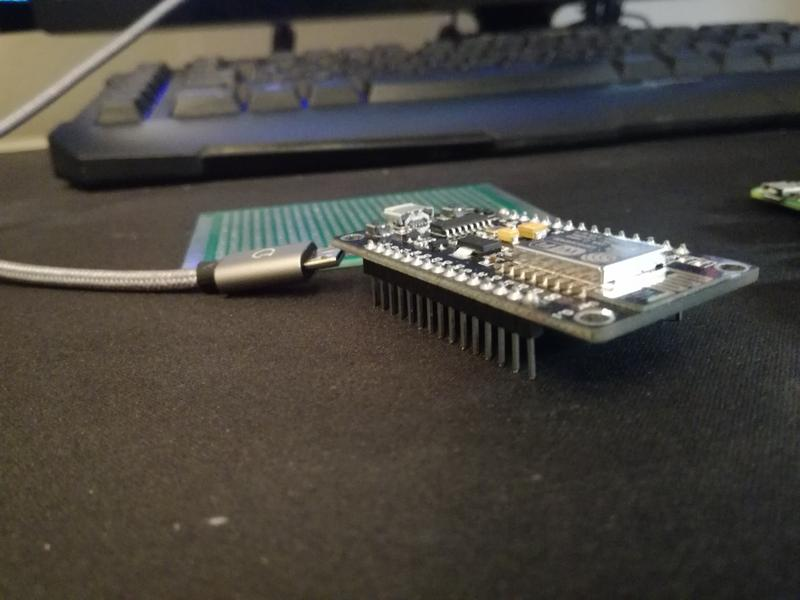ESP8266: (331, 197, 768, 382)
